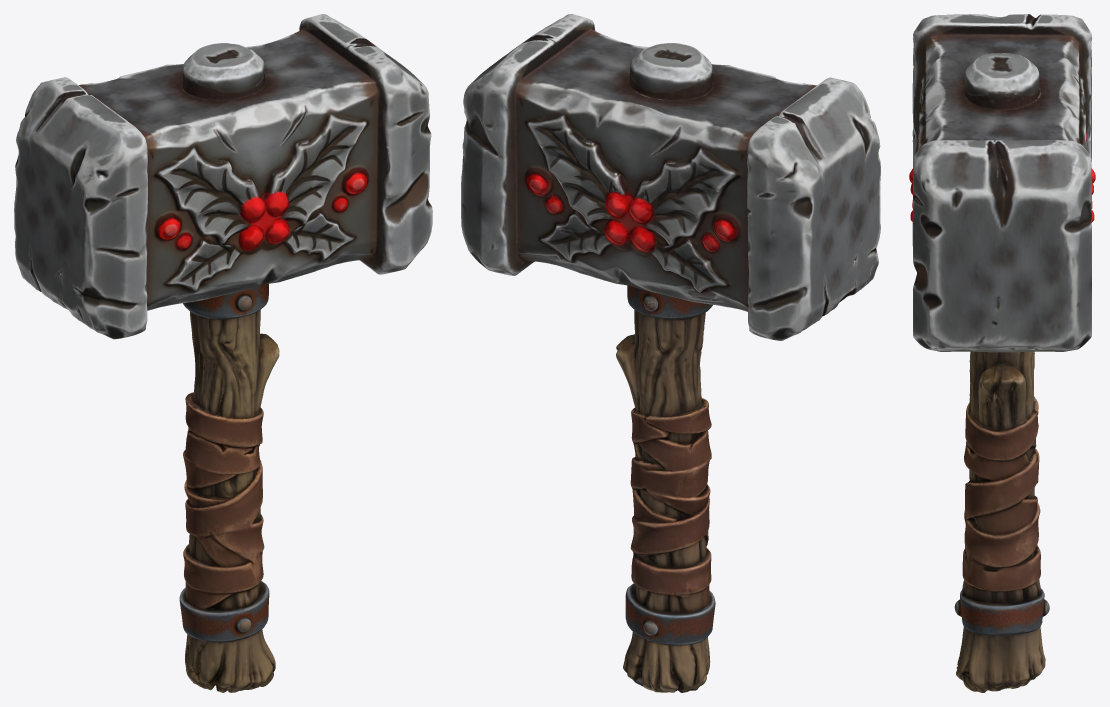
File: PF_Hammer1.glb
3 renders of one model, left to right at view 1: azimuth 30°, elevation 25°; view 2: azimuth 150°, elevation 25°; view 3: azimuth 270°, elevation 25°, orthographic. The views are drawn at different scales.
Size of the model in its own units: 1.11 by 1.9 by 0.5242.
1 material, 1 textured.
